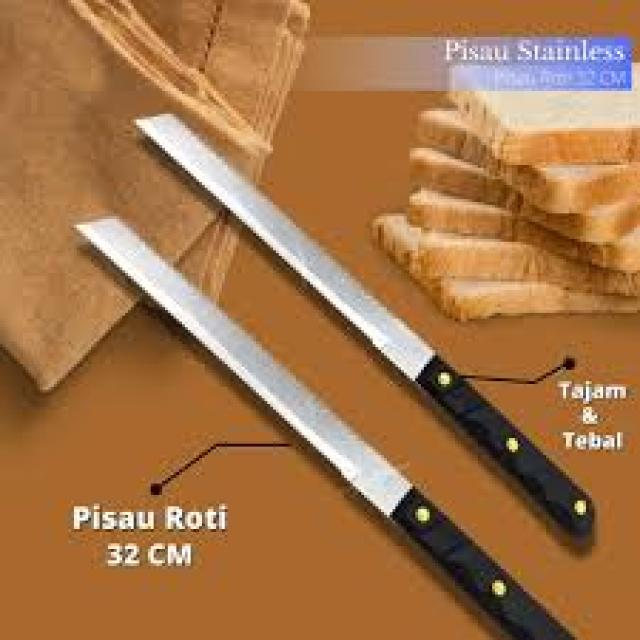Knife: (80, 216, 572, 637), (137, 114, 589, 535)
